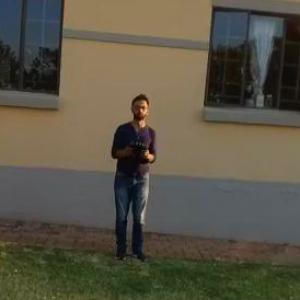follow: (103, 85, 159, 263)
